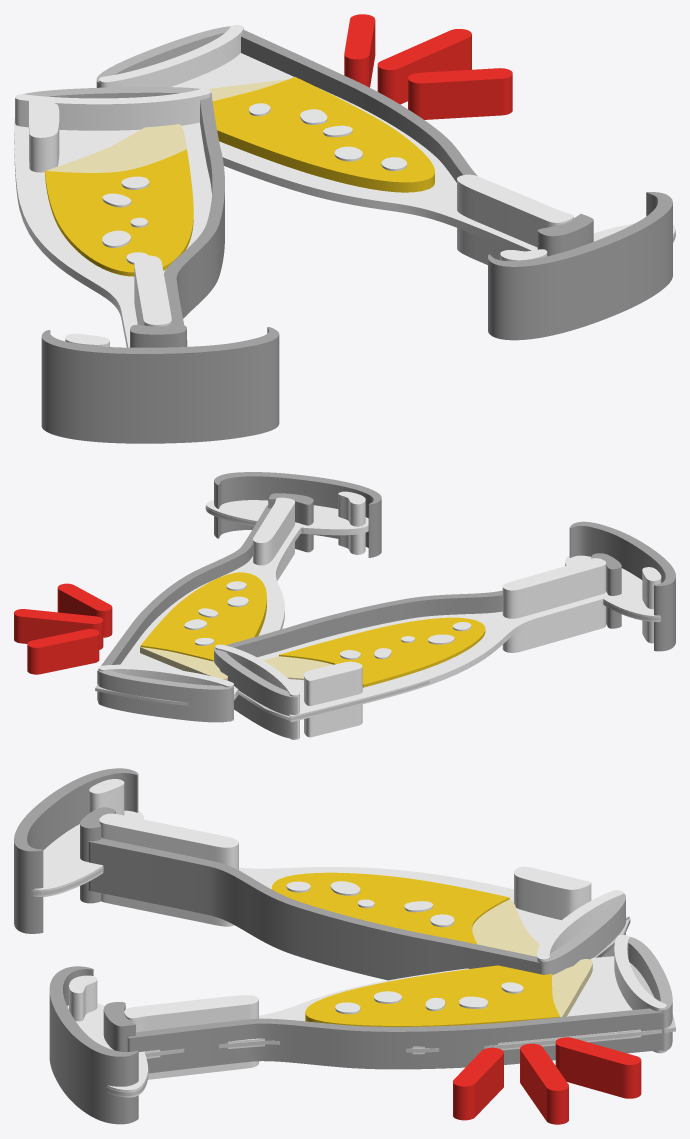
File: emoji_u1f942.glb
3 views of the same model, one above another, from view 1: azimuth 30°, elevation 25°; view 2: azimuth 150°, elevation 25°; view 3: azimuth 270°, elevation 25° (orthographic). The views are drawn at different scales.
Parts seen in each view (by area): view 1: emoji_u1f942; view 2: emoji_u1f942; view 3: emoji_u1f942.
Part boxes in pixels (x1,y1,x2,y2): emoji_u1f942: (14, 14, 675, 443); emoji_u1f942: (14, 472, 675, 739); emoji_u1f942: (14, 768, 675, 1124).
Size of the model in its own units: 0.034 by 0.0044 by 0.032.
